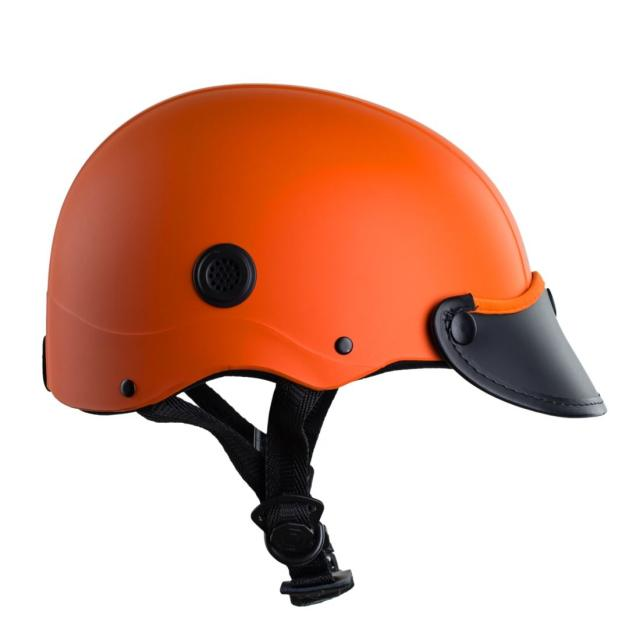helmet: (42, 82, 609, 418)
